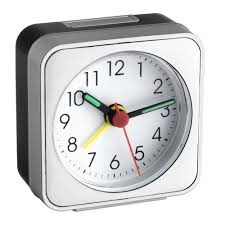alarm_clock: (17, 11, 202, 211), (17, 19, 202, 211)
